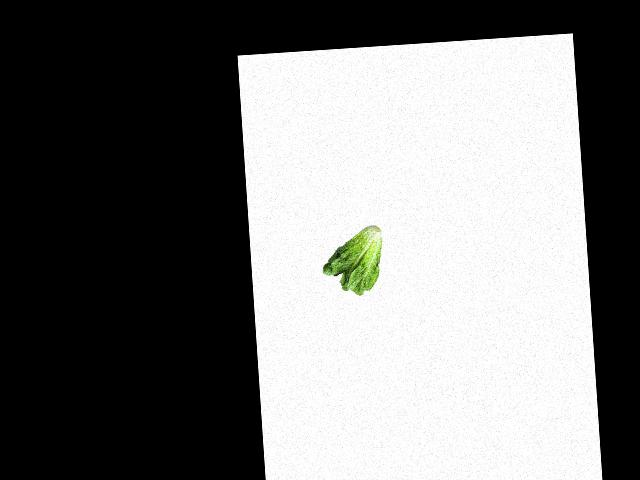lettuce: (316, 226, 389, 297)
